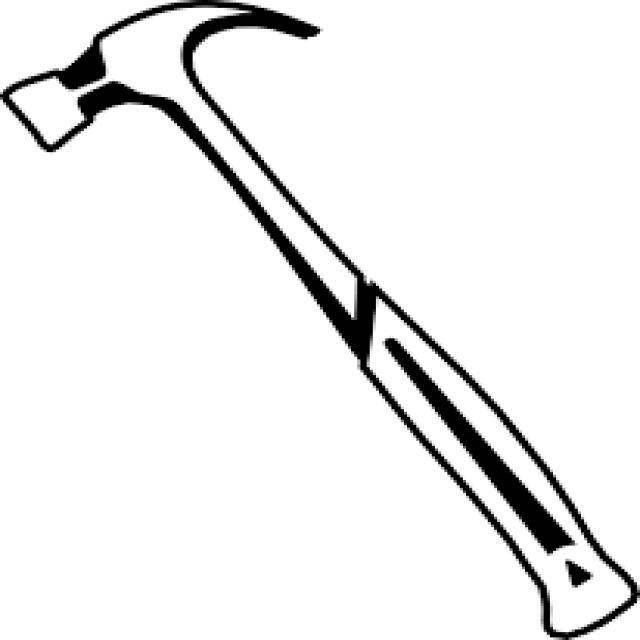Palu: (8, 8, 626, 640)
